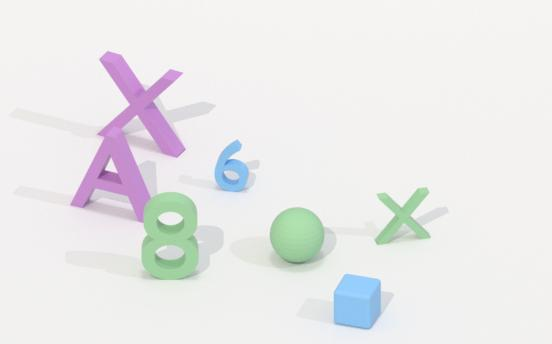6: (212, 138, 255, 194)
8: (135, 192, 204, 283)
A-hoa: (61, 131, 164, 224)
cau: (268, 206, 330, 265)
hop: (329, 269, 385, 332)
x: (95, 49, 190, 158), (372, 186, 434, 245)
